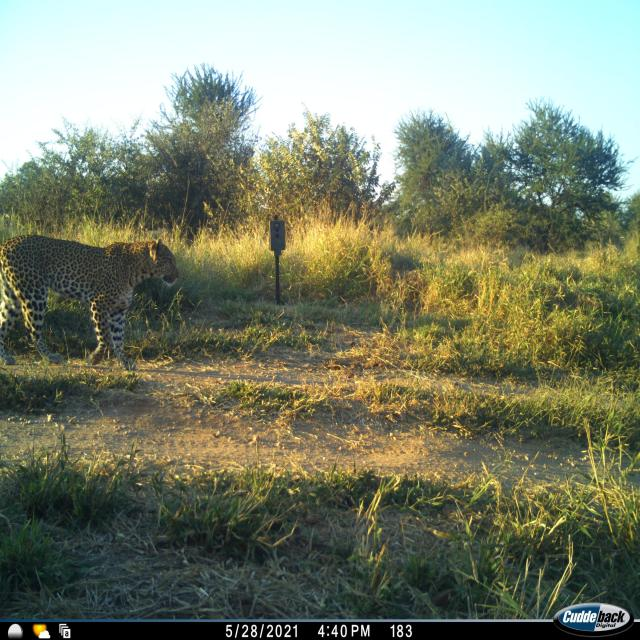Leopard: (0, 225, 177, 371)
